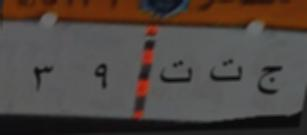3: (30, 60, 55, 100)
9: (90, 56, 112, 99)
jeem: (255, 60, 285, 104)
taa: (207, 56, 245, 92), (158, 58, 195, 92)
